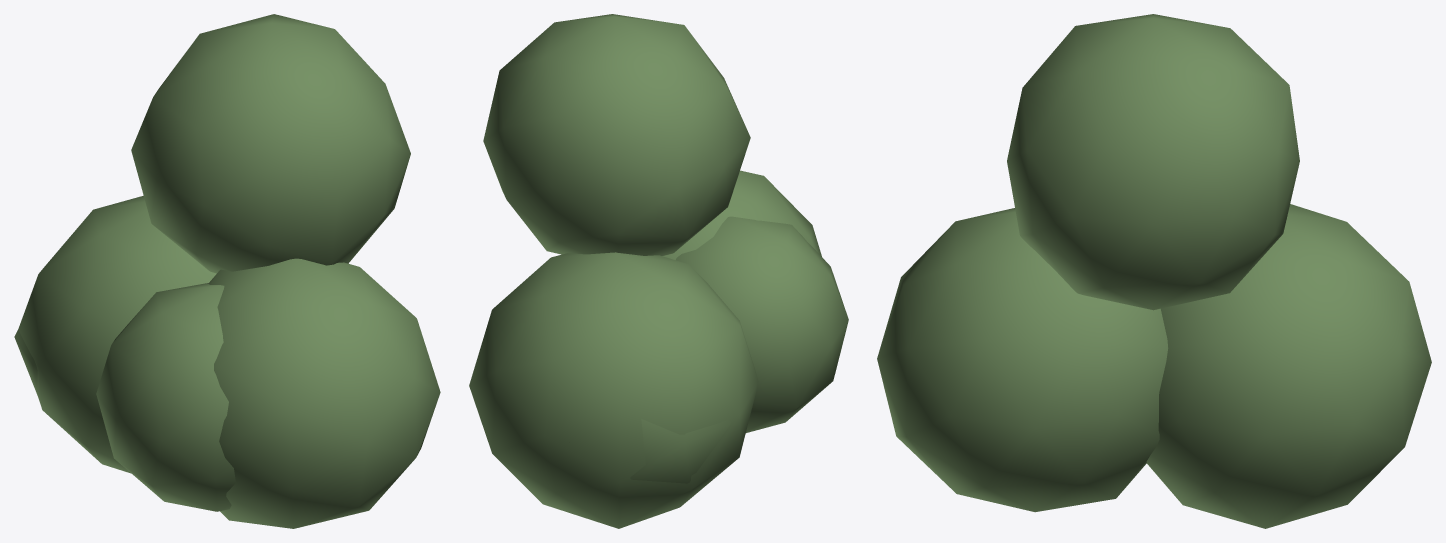
The model's file is NPR_07_2541__MOD__VegetationElements__Perennials__Chamomile__Var-01__.glb.
3 views of the same model, side by side, from view 1: azimuth 30°, elevation 25°; view 2: azimuth 150°, elevation 25°; view 3: azimuth 270°, elevation 25° (orthographic). The views are drawn at different scales.
Parts seen in each view (by area): view 1: NPR_07_2541__MOD__VegetationElements__Perennials__Chamomile_; view 2: NPR_07_2541__MOD__VegetationElements__Perennials__Chamomile_; view 3: NPR_07_2541__MOD__VegetationElements__Perennials__Chamomile_.
Boxes of the visible parts, left/top/right/bottom form: NPR_07_2541__MOD__VegetationElements__Perennials__Chamomile_: left=14, top=14, right=440, bottom=528; NPR_07_2541__MOD__VegetationElements__Perennials__Chamomile_: left=469, top=14, right=848, bottom=528; NPR_07_2541__MOD__VegetationElements__Perennials__Chamomile_: left=877, top=14, right=1431, bottom=528.
Size of the model in its own units: 0.5822 by 0.8471 by 0.8172.
